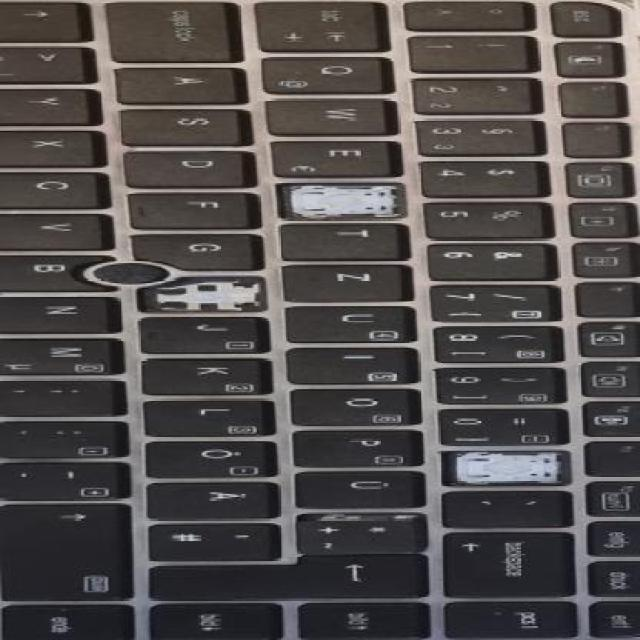Keyboard problems: (445, 451, 569, 485), (280, 185, 405, 218), (151, 278, 265, 309)
